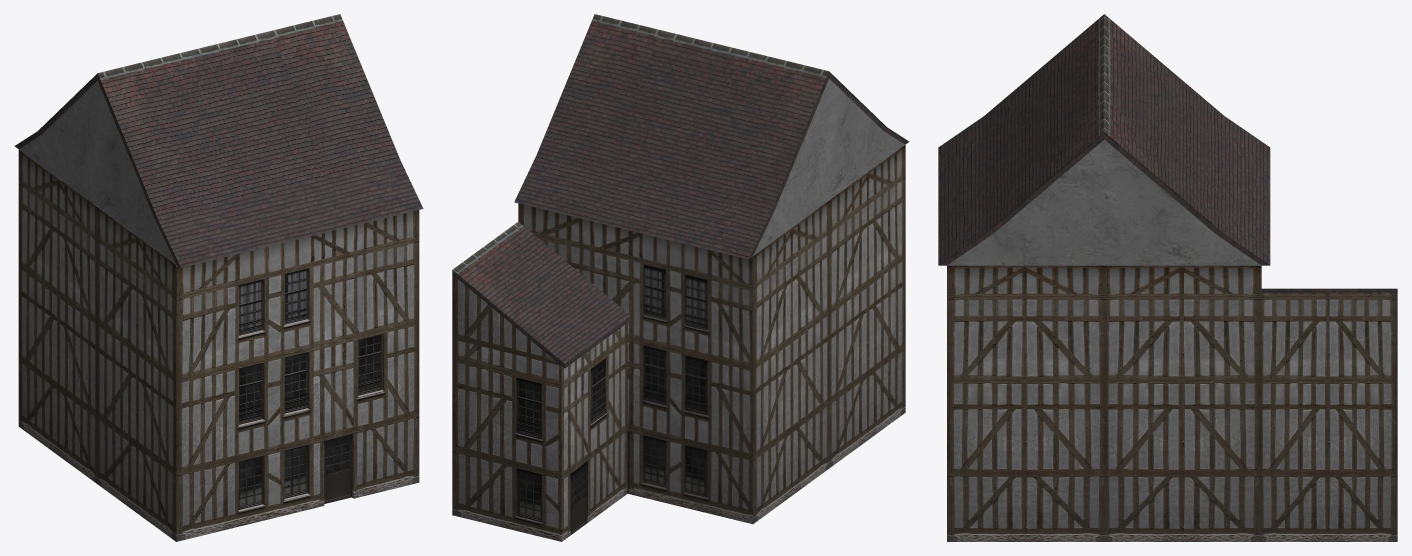
The model's file is house2.glb.
3 renders of one model, left to right at view 1: azimuth 30°, elevation 25°; view 2: azimuth 150°, elevation 25°; view 3: azimuth 270°, elevation 25°, orthographic. The views are drawn at different scales.
Visible parts, largest first — view 1: 2_2_0; view 2: 2_2_0; view 3: 2_2_0.
Part boxes in pixels (x1,y1,x2,y2): 2_2_0: [14, 14, 423, 541]; 2_2_0: [452, 14, 909, 541]; 2_2_0: [938, 14, 1397, 541].
Size of the model in its own units: 8 by 12.93 by 13.14.
1 material, 1 textured.
